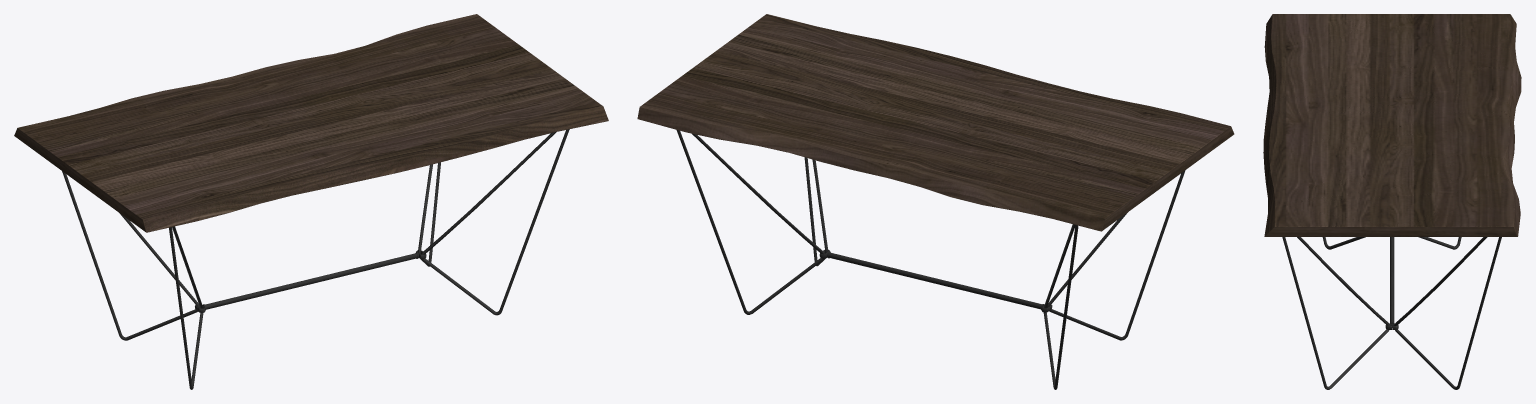
The model's file is raw_model.obj.
3 renders of one model, left to right at view 1: azimuth 30°, elevation 25°; view 2: azimuth 150°, elevation 25°; view 3: azimuth 270°, elevation 25°, orthographic. The views are drawn at different scales.
Parts seen in each view (by area): view 1: solid_002, solid_001; view 2: solid_002, solid_001; view 3: solid_002, solid_001.
Boxes of the visible parts, x1,y1,x2,y2 form: solid_002: (14, 14, 608, 232); solid_001: (62, 129, 569, 389); solid_002: (637, 14, 1234, 231); solid_001: (676, 130, 1185, 389); solid_002: (1263, 14, 1521, 236); solid_001: (1282, 237, 1501, 389).
Bounding box in the file's own units: 1.8 × 0.7854 × 0.9215.
Materials: 1 (1 with a texture image).
